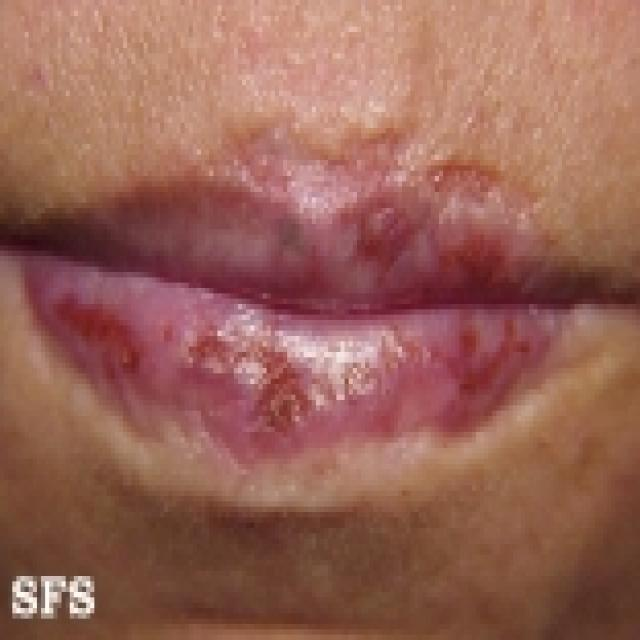lupus: (21, 119, 586, 509)
